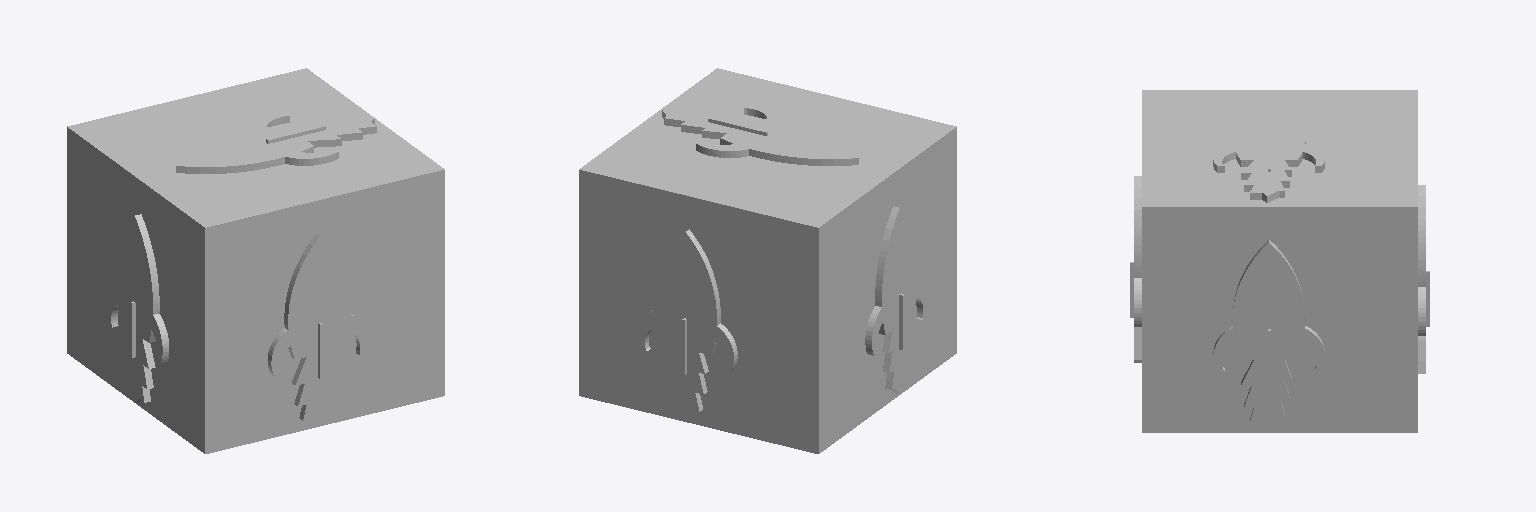
The model's file is HotSauce.obj.
The picture shows the model from 3 angles: view 1: azimuth 30°, elevation 25°; view 2: azimuth 150°, elevation 25°; view 3: azimuth 270°, elevation 25°; orthographic projection.
Visible parts, largest first — view 1: group_1.001_ID13, group_3.002_ID151, group_4.002_ID258, group_5.002_ID365, group_3.003_ID157, group_4.003_ID264, group_5.003_ID371, group_3.004_ID163, group_4_ID246, group_3_ID139, group_3.008_ID187, group_5_ID353 (+3 smaller); view 2: group_1.001_ID13, group_6.002_ID472, group_4.002_ID258, group_5.002_ID365, group_6.003_ID478, group_4.003_ID264, group_5.003_ID371, group_6.004_ID484, group_6.001_ID466, group_4.001_ID252, group_6.009_ID514, group_5.001_ID359 (+3 smaller); view 3: group_1.001_ID13, group_2.002_ID36, group_2.003_ID44, group_4.002_ID258, group_4.003_ID264, group_2.004_ID52, group_2.008_ID78, group_2.009_ID84, group_6.002_ID472, group_3.002_ID151, group_2_ID22, group_2.001_ID30.
Boxes of the visible parts, x1=… form: group_1.001_ID13: x1=67, y1=68, x2=444, y2=453; group_3.002_ID151: x1=284, y1=257, x2=350, y2=329; group_4.002_ID258: x1=192, y1=130, x2=284, y2=173; group_5.002_ID365: x1=117, y1=233, x2=159, y2=314; group_3.003_ID157: x1=292, y1=351, x2=338, y2=423; group_4.003_ID264: x1=293, y1=114, x2=376, y2=147; group_5.003_ID371: x1=124, y1=328, x2=155, y2=402; group_3.004_ID163: x1=298, y1=234, x2=337, y2=265; group_4_ID246: x1=285, y1=149, x2=338, y2=165; group_3_ID139: x1=268, y1=328, x2=290, y2=375; group_3.008_ID187: x1=289, y1=323, x2=317, y2=349; group_5_ID353: x1=151, y1=314, x2=168, y2=362; group_1.001_ID13: x1=579, y1=68, x2=956, y2=453; group_6.002_ID472: x1=654, y1=253, x2=720, y2=325; group_4.002_ID258: x1=749, y1=122, x2=842, y2=165; group_5.002_ID365: x1=875, y1=225, x2=917, y2=306; group_6.003_ID478: x1=661, y1=346, x2=708, y2=417; group_4.003_ID264: x1=662, y1=104, x2=741, y2=138; group_5.003_ID371: x1=882, y1=319, x2=913, y2=393; group_6.004_ID484: x1=667, y1=229, x2=707, y2=261; group_6.001_ID466: x1=715, y1=323, x2=737, y2=371; group_4.001_ID252: x1=696, y1=141, x2=748, y2=157; group_6.009_ID514: x1=687, y1=319, x2=716, y2=345; group_5.001_ID359: x1=865, y1=306, x2=882, y2=355; group_1.001_ID13: x1=1142, y1=90, x2=1417, y2=432; group_2.002_ID36: x1=1233, y1=265, x2=1305, y2=328; group_2.003_ID44: x1=1241, y1=360, x2=1291, y2=429; group_4.002_ID258: x1=1233, y1=112, x2=1305, y2=143; group_4.003_ID264: x1=1241, y1=160, x2=1291, y2=202; group_2.004_ID52: x1=1248, y1=240, x2=1289, y2=267; group_2.008_ID78: x1=1233, y1=329, x2=1267, y2=349; group_2.009_ID84: x1=1271, y1=329, x2=1304, y2=349; group_6.002_ID472: x1=1418, y1=219, x2=1425, y2=286; group_3.002_ID151: x1=1134, y1=210, x2=1141, y2=277; group_2_ID22: x1=1213, y1=326, x2=1235, y2=370; group_2.001_ID30: x1=1303, y1=326, x2=1324, y2=370.
Bounding box in the file's own units: 1.63 × 1.42 × 1.63.